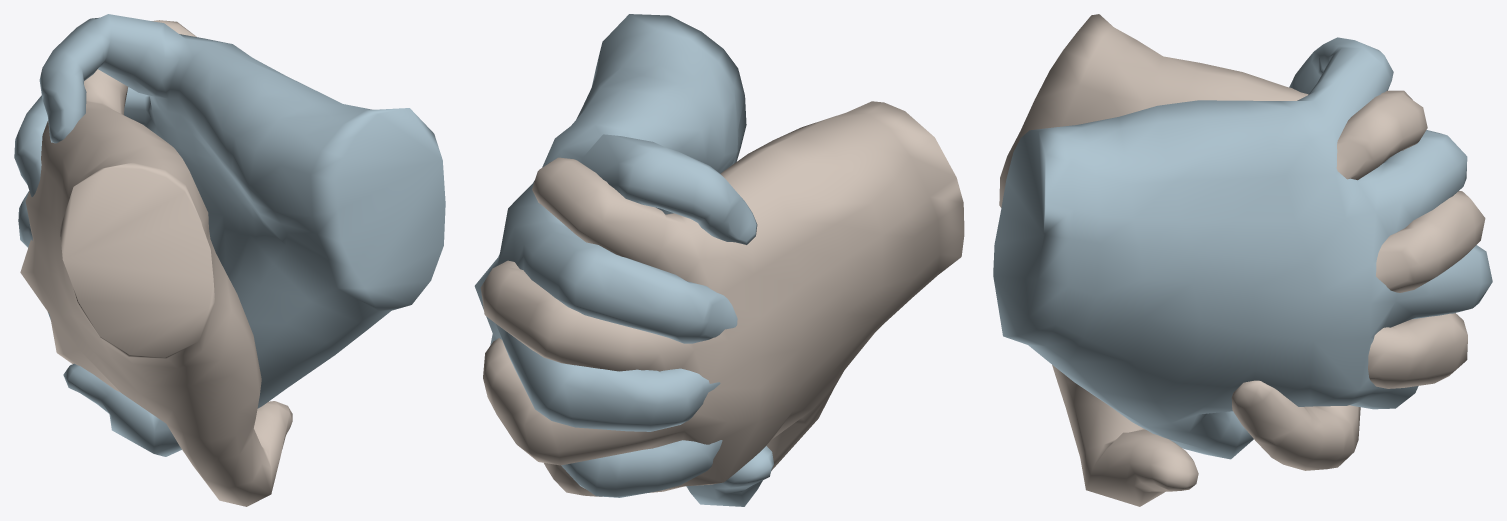
The picture shows the model from 3 angles, left to right: view 1: azimuth 30°, elevation 25°; view 2: azimuth 150°, elevation 25°; view 3: azimuth 270°, elevation 25°; orthographic projection. The views are drawn at different scales.
Size of the model in its own units: 0.1214 by 0.1302 by 0.135.
